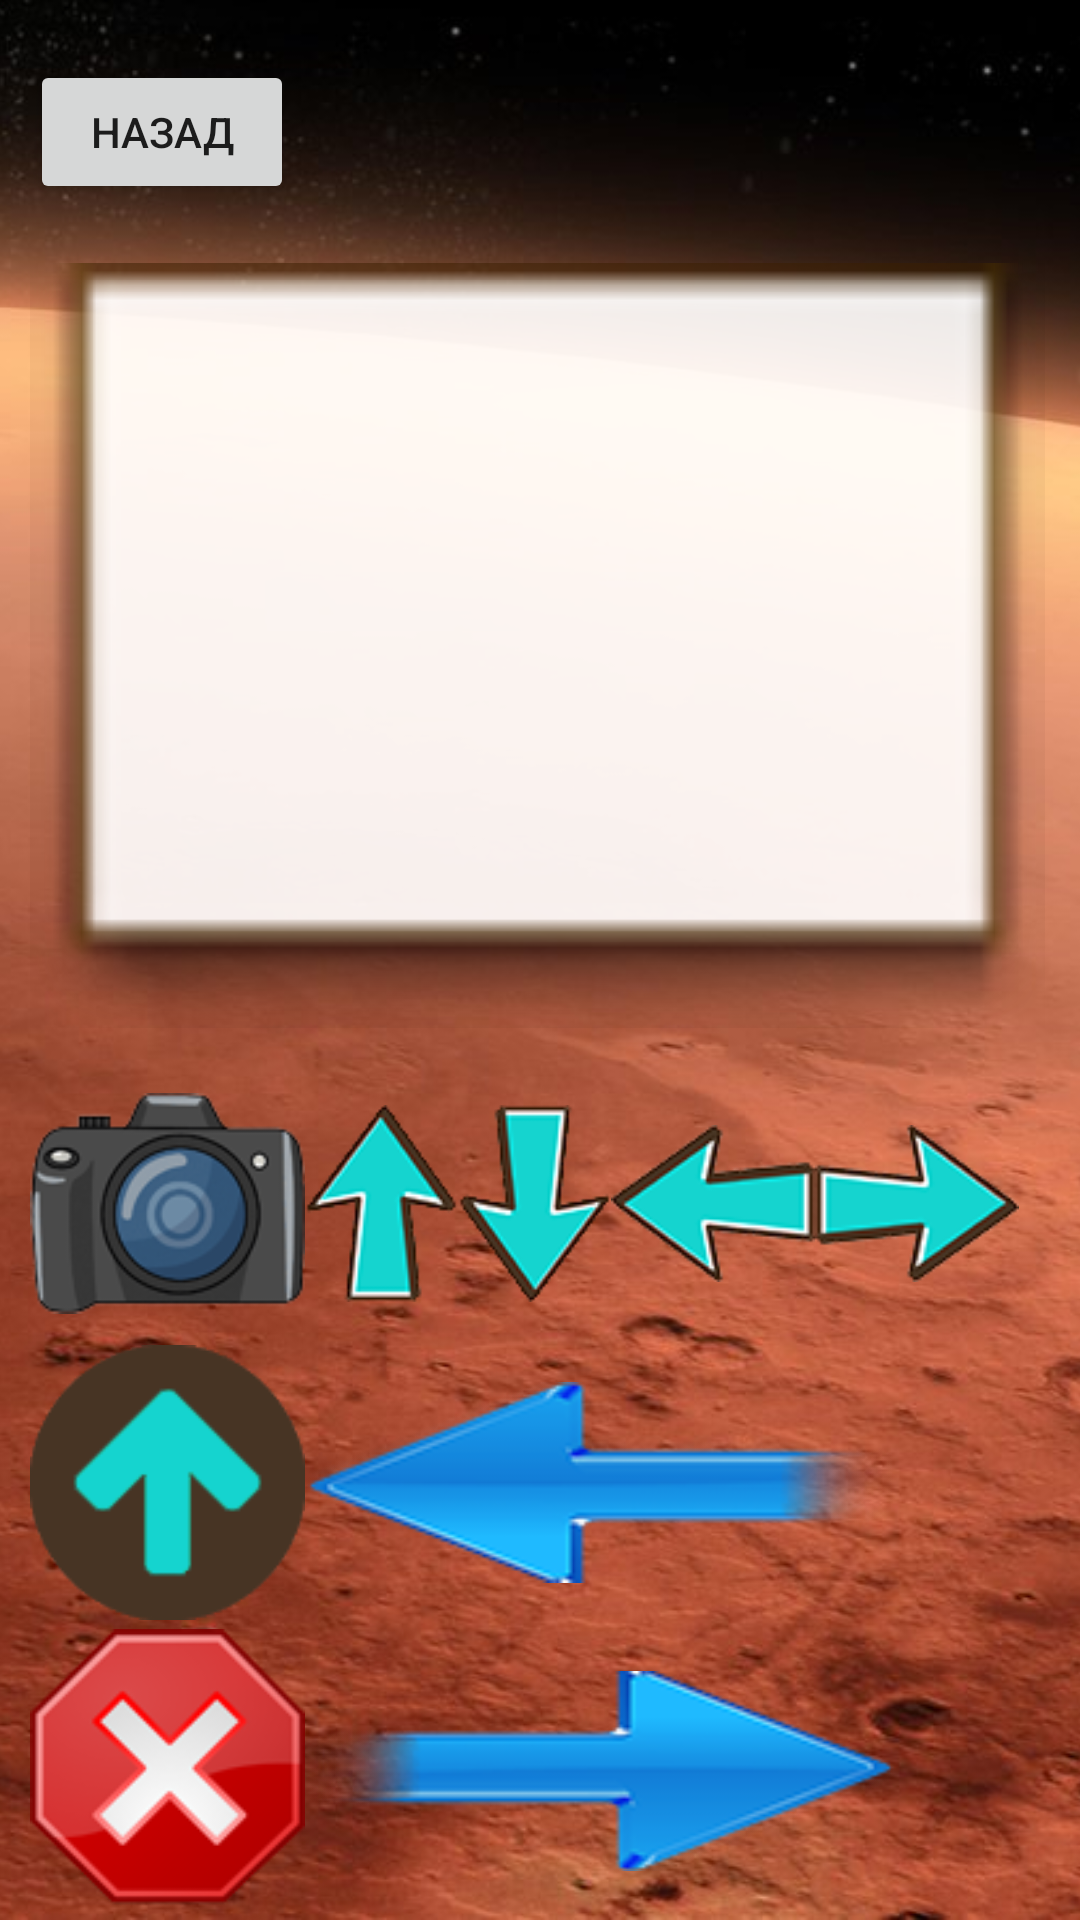

Where to tap for icons on this 1080 × 1920 app screen, as [x,y]:
levo: [713,1203]
photo: [167,1217]
pravo: [917,1203]
stop: [167,1771]
vniz: [534,1219]
vverh: [381,1219]
